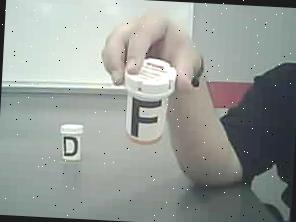Bottle D: (56, 119, 87, 168)
Bottle F: (118, 53, 177, 155)
